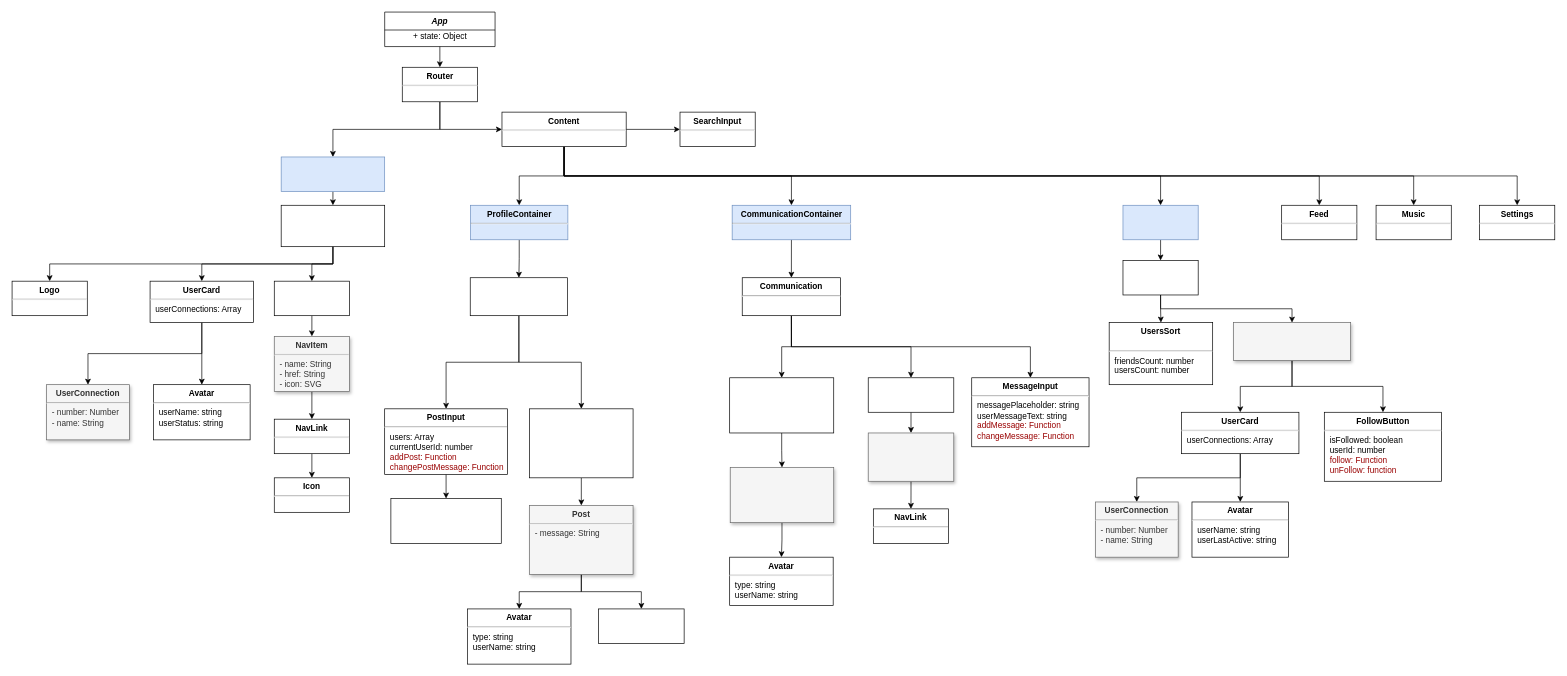
Some shapes in this 1567 by 676 pixel diagram are drawn without their labels. The centre of each missing label's shape, as x and y in pixels:
"Avatar type: string" belongs at [445,520].
"DialogItem - name: String - id: Number" belongs at [911,458].
"DialogMessages currentUserId: number messages: Array" belongs at [781,405].
"Dialogs - dialogs: Array" belongs at [911,394].
"Header" belongs at [332,226].
"HeaderContainer" belongs at [332,173].
"LikeButton - likeCount: Number" belongs at [641,625].
"Nav" belongs at [311,298].
"Posts posts: Array" belongs at [581,443].
"Profile" belongs at [519,296].
"User" belongs at [1292,342].
"UserMessage - message: String - currentUser: boolean" belongs at [782,496].
"Users users: Array" belongs at [1160,277].
"UsersContainer" belongs at [1160,222].
